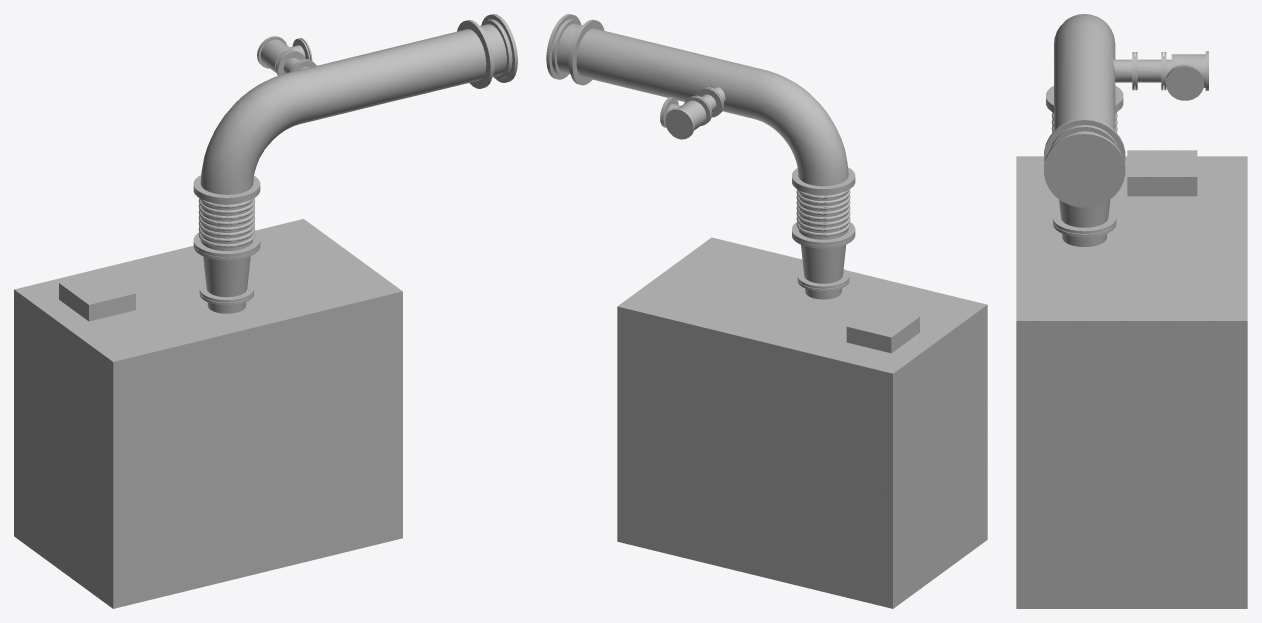
The model's file is gufengji.obj.
3 renders of one model, left to right at view 1: azimuth 30°, elevation 25°; view 2: azimuth 150°, elevation 25°; view 3: azimuth 270°, elevation 25°, orthographic. The views are drawn at different scales.
Parts seen in each view (by area): view 1: _拉伸_[5127601], _连接的实心几何图形_[5127737], _旋转_[5127608], _拉伸_[5127690]; view 2: _拉伸_[5127601], _连接的实心几何图形_[5127737], _旋转_[5127608], _拉伸_[5127690]; view 3: _拉伸_[5127601], _连接的实心几何图形_[5127737], _拉伸_[5127690], _旋转_[5127608], _旋转_[5127725].
Boxes of the visible parts, x1,y1,x2,y2 form: _拉伸_[5127601]: [14, 219, 402, 608]; _连接的实心几何图形_[5127737]: [200, 14, 517, 194]; _旋转_[5127608]: [193, 175, 260, 313]; _拉伸_[5127690]: [59, 271, 135, 321]; _拉伸_[5127601]: [617, 237, 987, 608]; _连接的实心几何图形_[5127737]: [546, 14, 848, 186]; _旋转_[5127608]: [792, 167, 855, 299]; _拉伸_[5127690]: [846, 305, 919, 353]; _拉伸_[5127601]: [1016, 156, 1247, 608]; _连接的实心几何图形_[5127737]: [1044, 14, 1208, 207]; _拉伸_[5127690]: [1127, 150, 1197, 196]; _旋转_[5127608]: [1046, 86, 1123, 246]; _旋转_[5127725]: [1166, 64, 1204, 100].
Size of the model in its own units: 547 by 589 by 225.
Materials: 1 (1 with a texture image).
